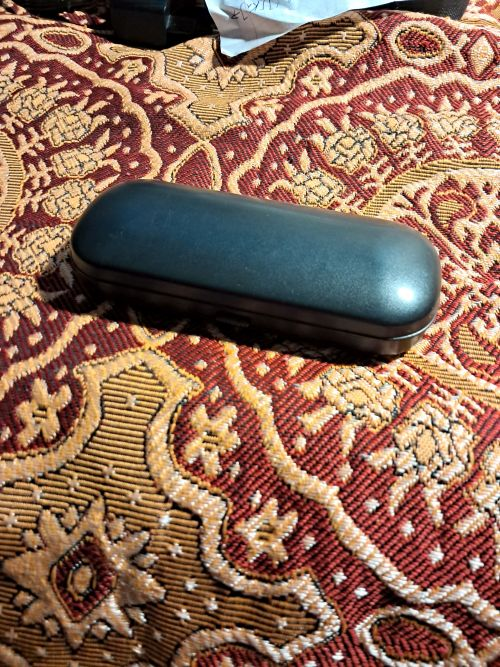case: (70, 180, 442, 356)
